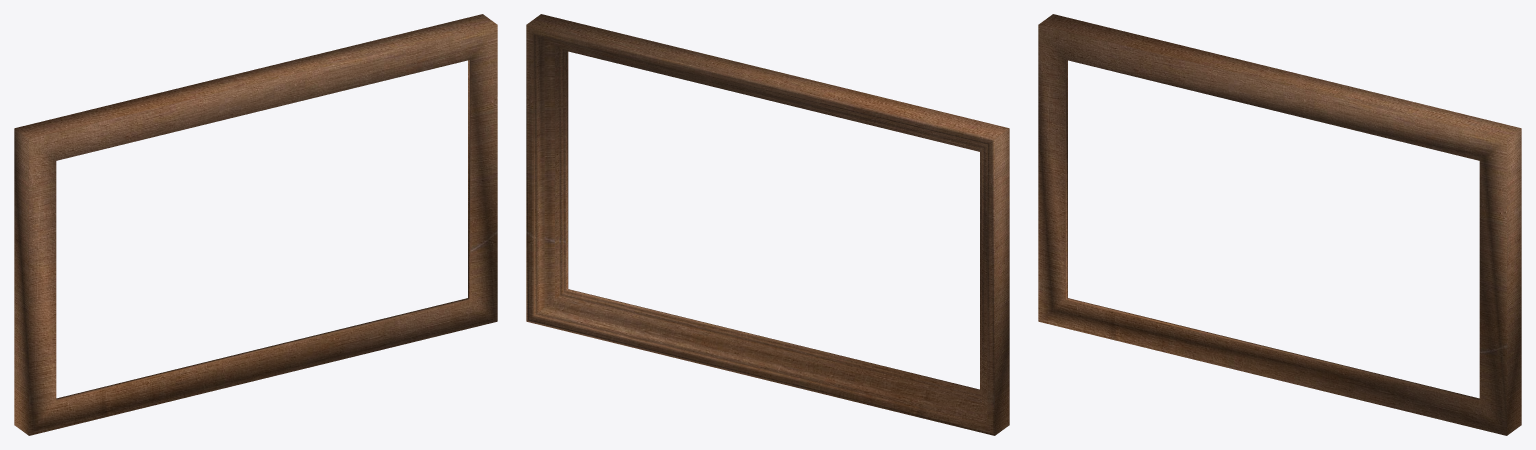
The model's file is frame2.glb.
3 views of the same model, side by side, from view 1: azimuth 30°, elevation 25°; view 2: azimuth 150°, elevation 25°; view 3: azimuth 330°, elevation 25° (orthographic).
Visible parts, largest first — view 1: Frame2; view 2: Frame2; view 3: Frame2.
Boxes of the visible parts, <box> form: Frame2: <box>14,14,497,435</box>; Frame2: <box>526,14,1009,435</box>; Frame2: <box>1038,14,1521,435</box>.
Size of the model in its own units: 4.13 by 2.5 by 0.2246.
1 material, 1 textured.
